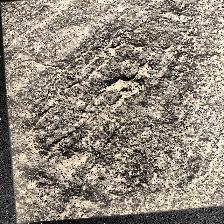pothole: (95, 58, 159, 110)
